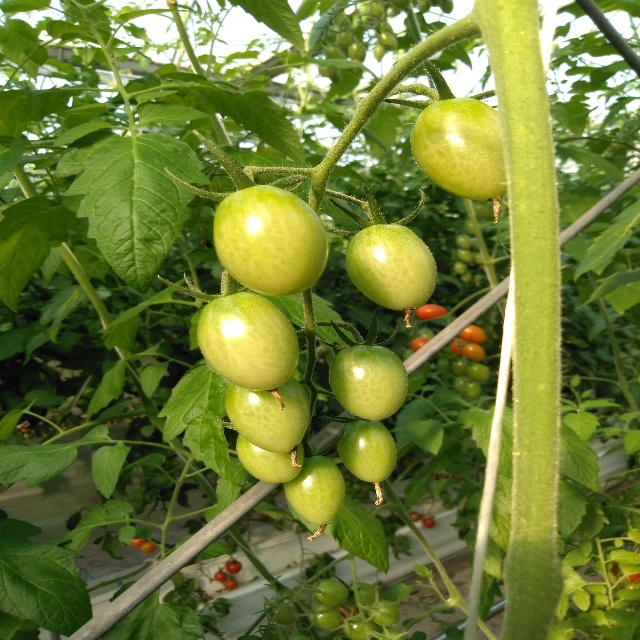l_green: (212, 184, 330, 296), (196, 292, 300, 392), (410, 98, 509, 202), (346, 224, 437, 311), (225, 376, 312, 454), (329, 345, 408, 421), (283, 455, 345, 525), (336, 419, 398, 483), (236, 433, 305, 484), (313, 579, 349, 606), (368, 599, 401, 626), (308, 605, 342, 631), (341, 615, 376, 640)
